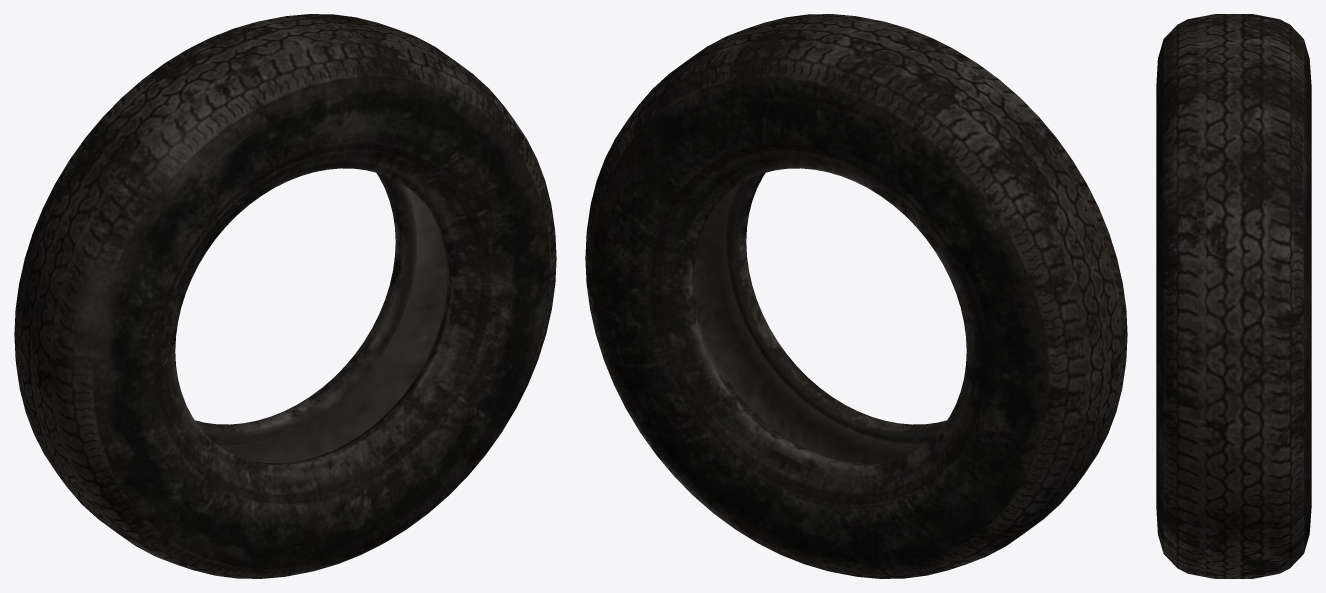
Rendered from old_tyre.gltf.
3 views of the same model, side by side, from view 1: azimuth 30°, elevation 25°; view 2: azimuth 150°, elevation 25°; view 3: azimuth 270°, elevation 25° (orthographic). The views are drawn at different scales.
Parts seen in each view (by area): view 1: old_tyre; view 2: old_tyre; view 3: old_tyre.
Part boxes in pixels (<box>): old_tyre: <box>14,14,556,578</box>; old_tyre: <box>585,14,1127,578</box>; old_tyre: <box>1156,14,1311,578</box>.
Bounding box in the file's own units: 0.6 × 0.6 × 0.165.
Materials: 1 (1 with a texture image).
